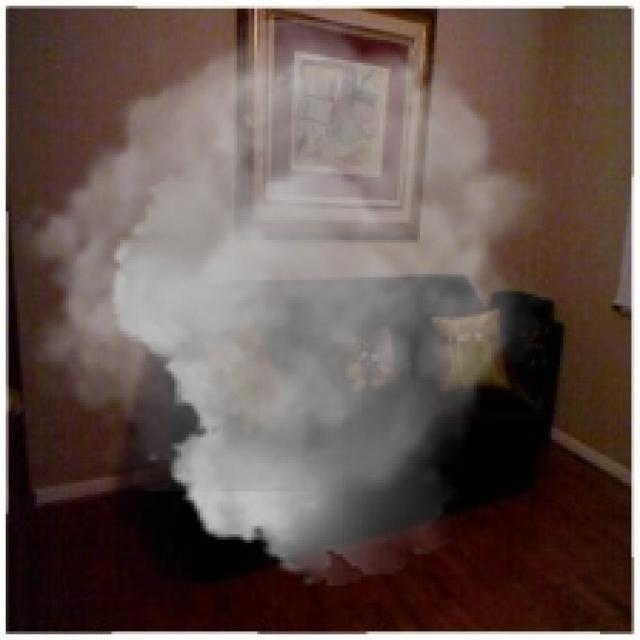smoke: (12, 20, 554, 586)
